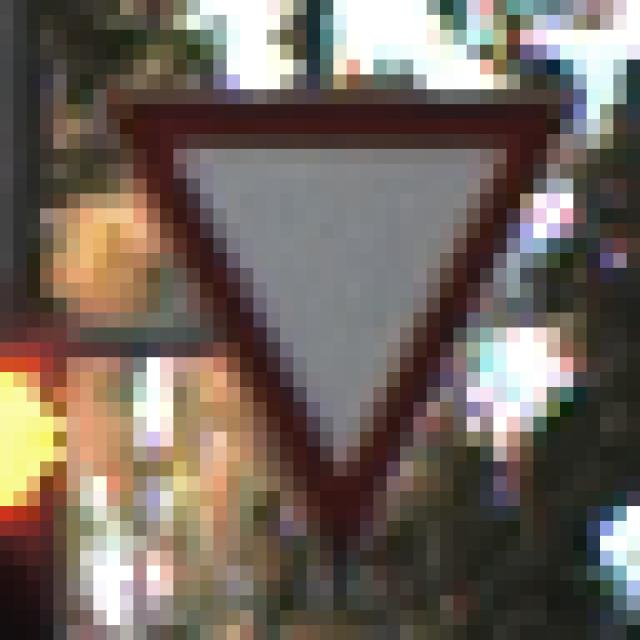Give Way: (81, 76, 561, 567)
